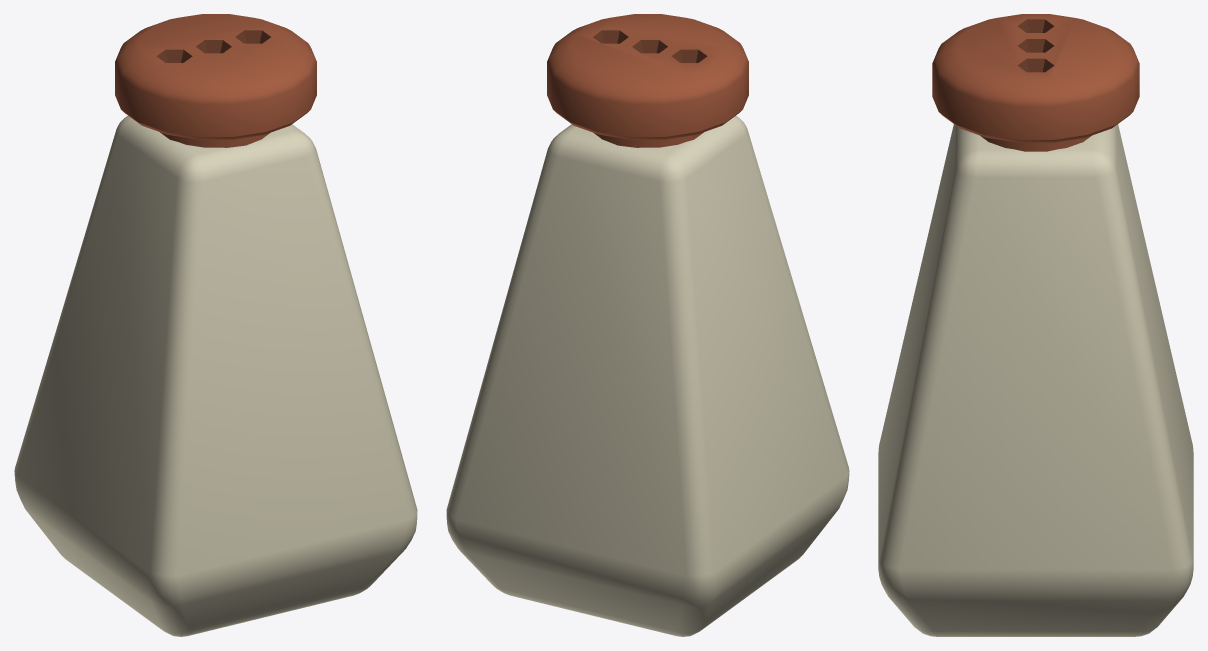
Rendered from Salt Cellar.fbx.
The picture shows the model from 3 angles, left to right: view 1: azimuth 30°, elevation 25°; view 2: azimuth 150°, elevation 25°; view 3: azimuth 270°, elevation 25°; orthographic projection. The views are drawn at different scales.
Parts seen in each view (by area): view 1: Salt Cellar, Salt Cellar.001; view 2: Salt Cellar, Salt Cellar.001; view 3: Salt Cellar, Salt Cellar.001.
Part boxes in pixels (x1,y1,x2,y2): Salt Cellar: [14, 116, 417, 636]; Salt Cellar.001: [115, 14, 316, 147]; Salt Cellar: [446, 116, 849, 636]; Salt Cellar.001: [547, 14, 748, 147]; Salt Cellar: [878, 124, 1193, 636]; Salt Cellar.001: [932, 14, 1139, 151].
Bounding box in the file's own units: 0.1727 × 0.3307 × 0.1727.
